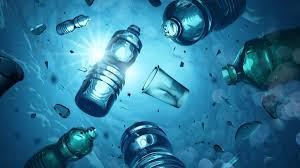Plastic: (74, 18, 145, 114), (209, 29, 300, 94), (154, 0, 250, 47), (15, 119, 107, 168)
